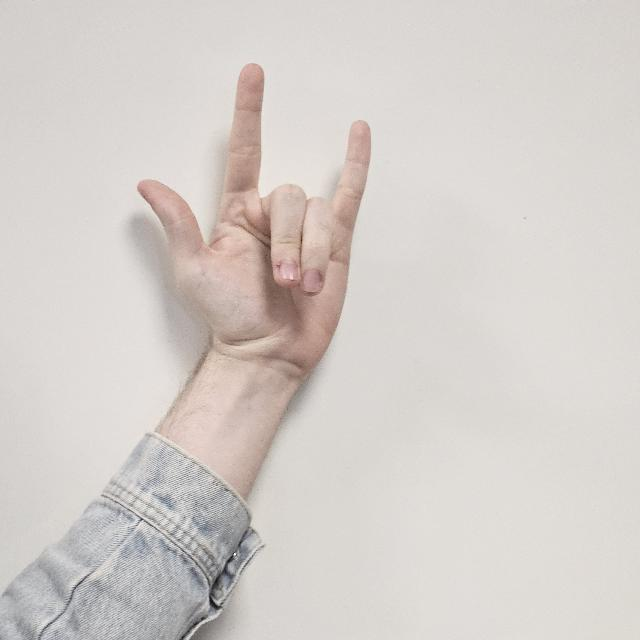Cima: (135, 58, 373, 370)
